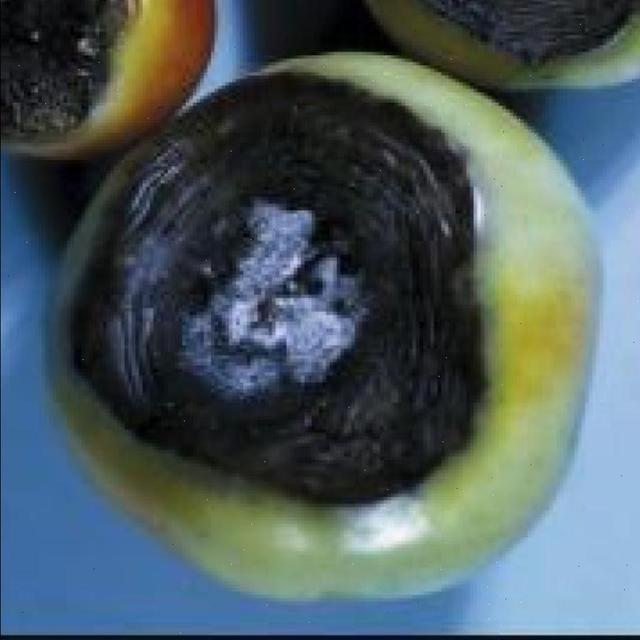Blossom End Rot Fruit: (51, 20, 353, 299)
